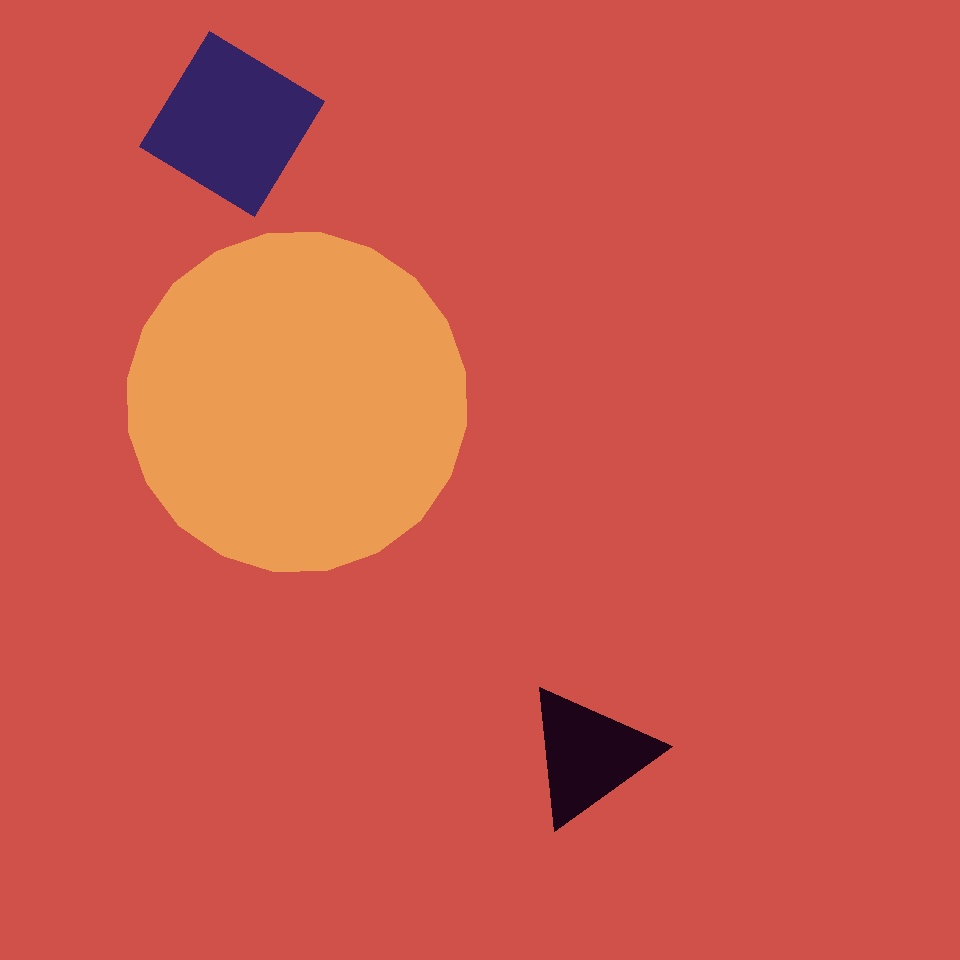circle: (466, 253, 782, 564), (528, 308, 751, 540), (62, 391, 218, 550), (522, 683, 656, 827)
square: (203, 277, 535, 610), (140, 32, 324, 216), (385, 283, 510, 408)
triangle: (302, 420, 681, 798), (128, 232, 466, 572), (298, 304, 418, 422)
